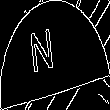N_S: (40, 26, 70, 84)
